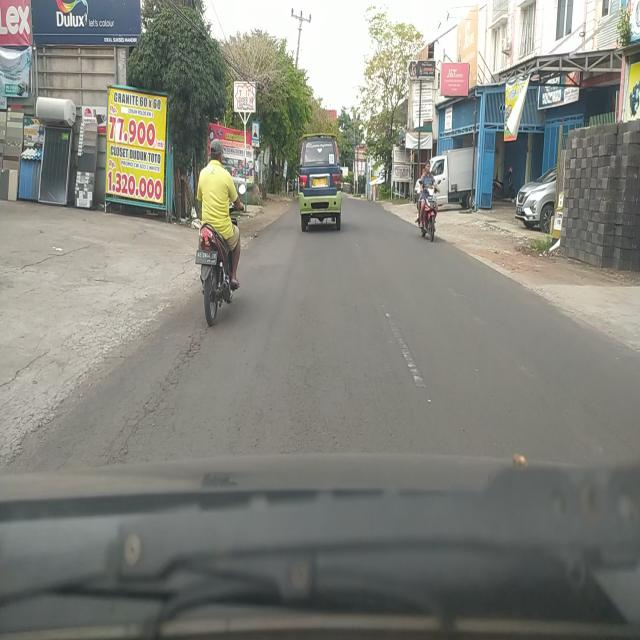Drain Hole: (103, 330, 204, 458)
